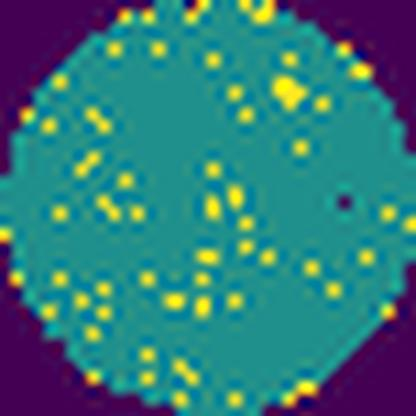Loc: (273, 71, 308, 108)
